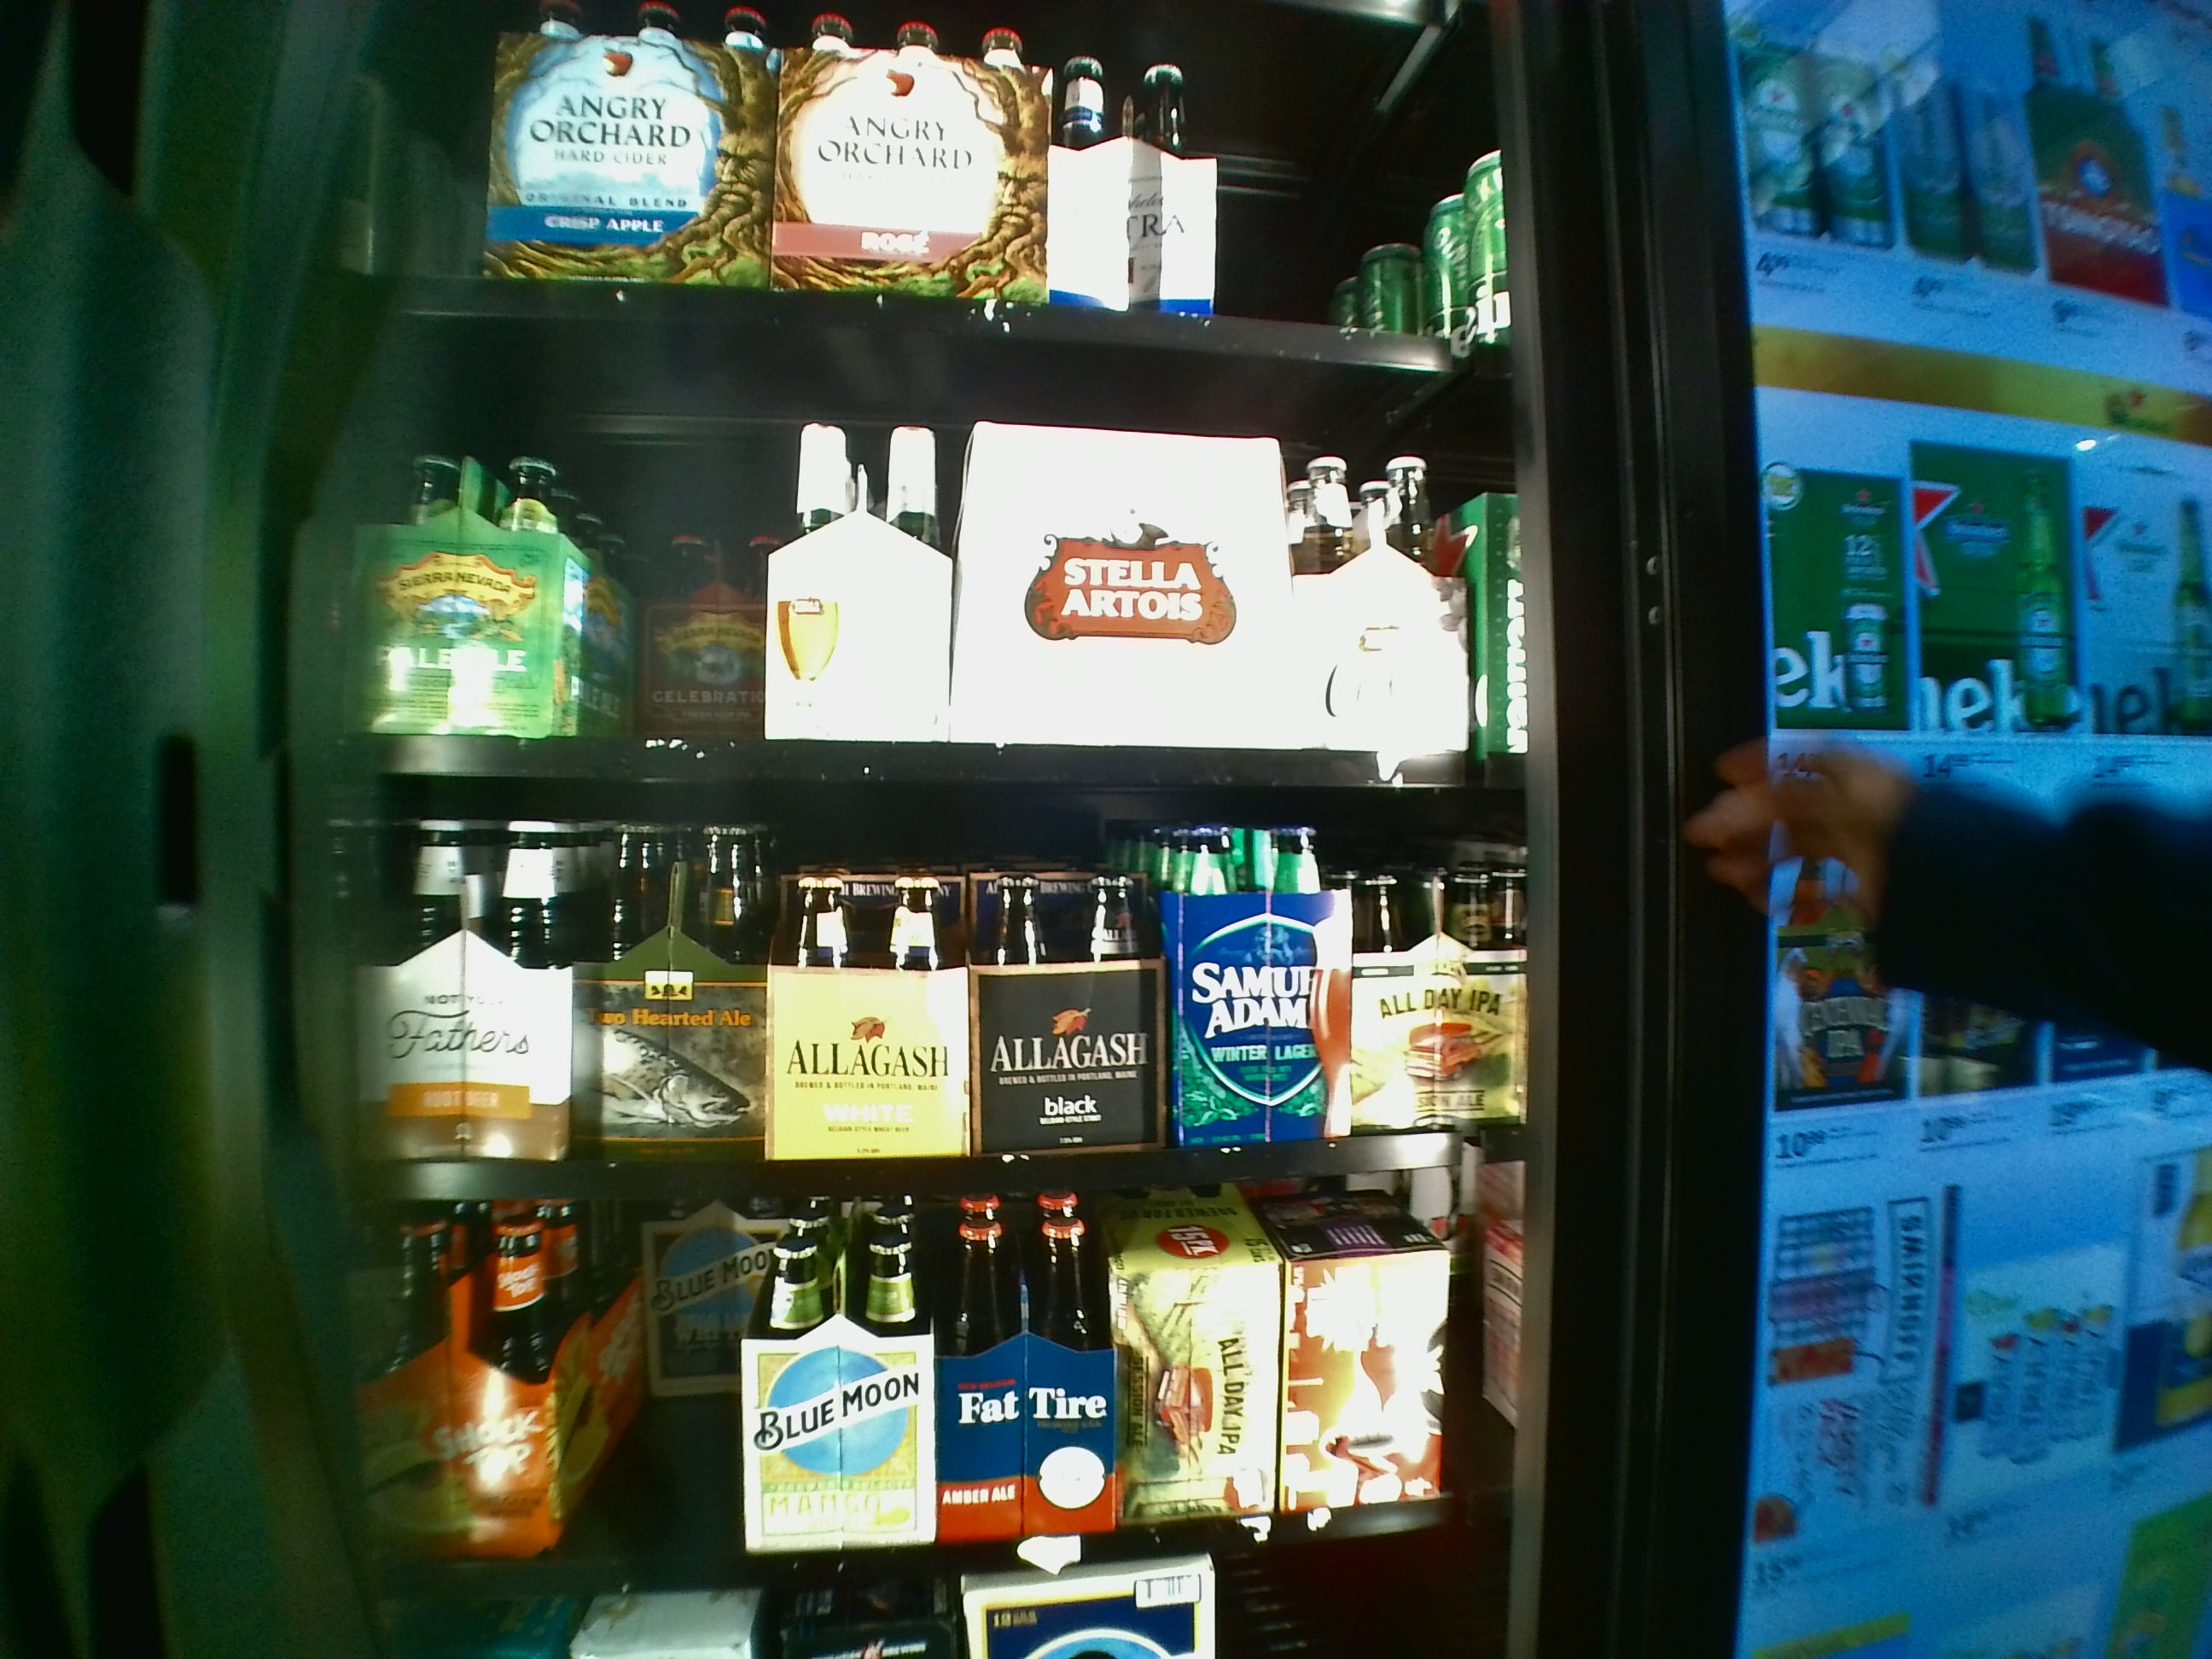shelf: (326, 322, 1514, 793), (324, 807, 1531, 1201)
